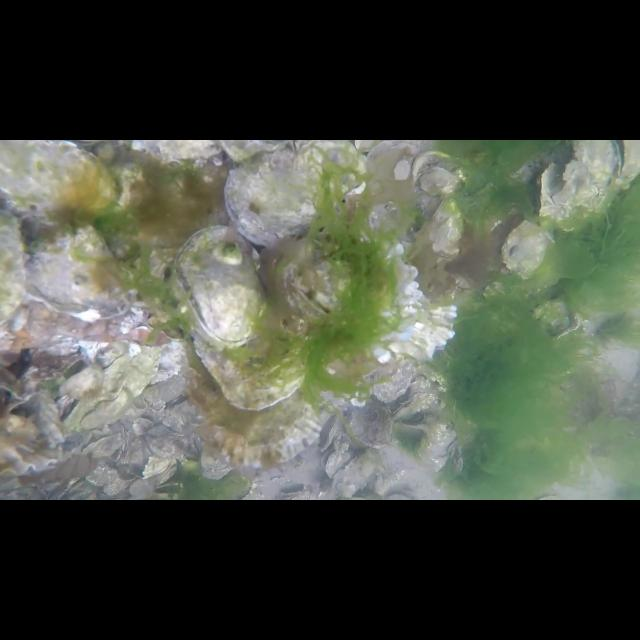Oyster-Closed: (284, 230, 456, 364), (197, 356, 323, 469), (4, 140, 150, 230), (177, 225, 269, 349), (22, 230, 128, 324), (61, 346, 159, 428), (539, 140, 617, 220), (503, 222, 552, 276), (0, 434, 60, 478), (427, 196, 465, 262), (347, 394, 393, 446), (412, 150, 466, 194), (334, 451, 380, 497), (373, 356, 415, 402), (200, 445, 236, 481), (320, 412, 342, 452)
Oyster-Open: (225, 140, 369, 248), (192, 300, 314, 412), (612, 140, 640, 190), (321, 446, 354, 480), (390, 394, 420, 422), (398, 414, 428, 430)
